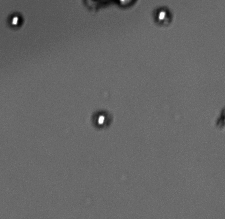Living Cell: (153, 5, 173, 25), (91, 109, 113, 126), (7, 11, 25, 29)
